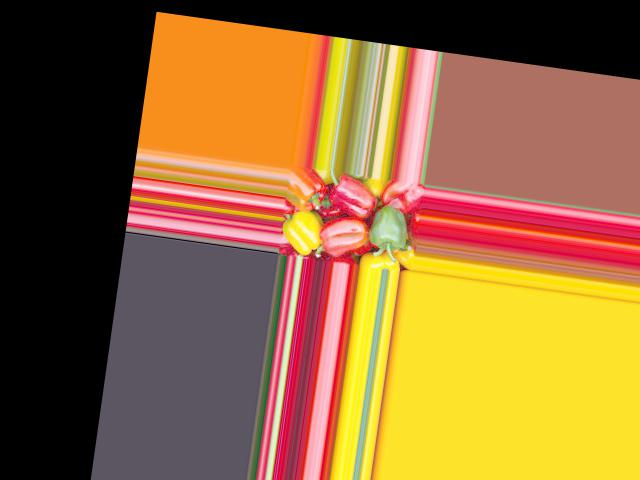bell_pepper: (279, 205, 327, 259)
